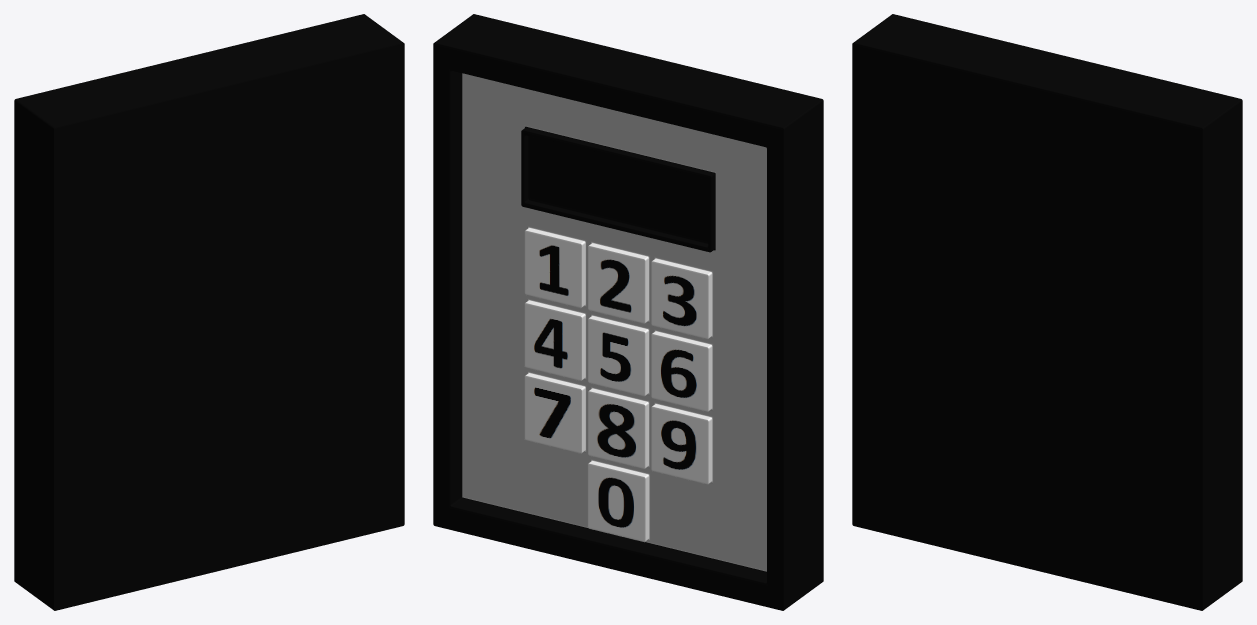
File: keypad.fbx
3 views of the same model, side by side, from view 1: azimuth 30°, elevation 25°; view 2: azimuth 150°, elevation 25°; view 3: azimuth 330°, elevation 25° (orthographic).
Parts seen in each view (by area): view 1: Cube.013; view 2: Cube.013; view 3: Cube.013.
Boxes of the visible parts, x1=… form: Cube.013: x1=14, y1=14, x2=404, y2=610; Cube.013: x1=433, y1=14, x2=823, y2=610; Cube.013: x1=852, y1=14, x2=1242, y2=610.
Size of the model in its own units: 92.61 by 122 by 18.15.
1 material, 1 textured.
